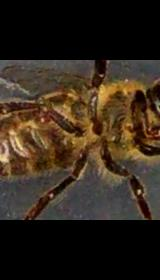varroa_mite: (30, 100, 50, 128)
